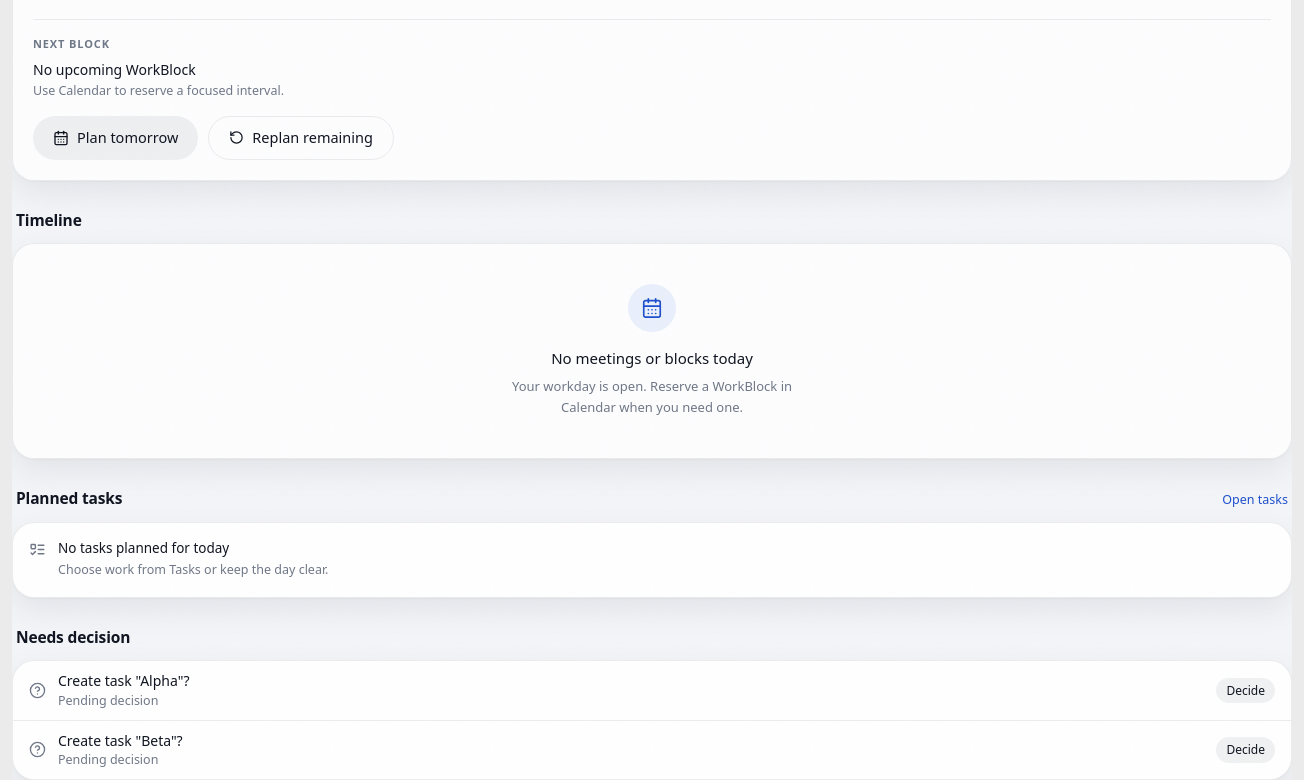
TodayPage confirmation decisions › handles a rejected confirmation inline and keeps the remaining item
This screenshot has width=1304, height=780.
(page scrolled)
Click the button "Create task \"Alpha\"? Pending decision Decide": point(124, 681) [13, 661, 1291, 720]
(page scrolled)
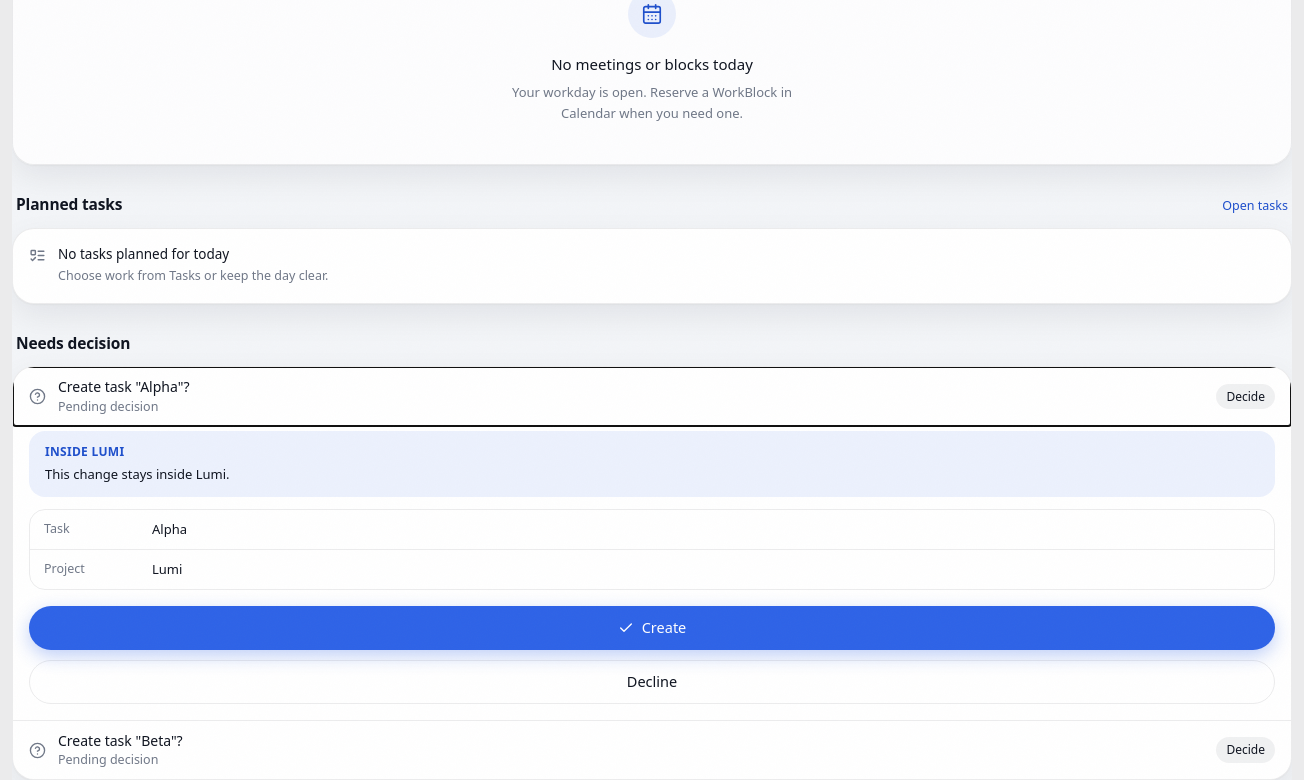
Check: the text "Task" is shown, box [44, 520, 70, 537]
Check: the text "Alpha" is shown, box [152, 520, 187, 538]
Click the button "Decline": point(652, 682) [29, 660, 1275, 704]
(page scrolled)
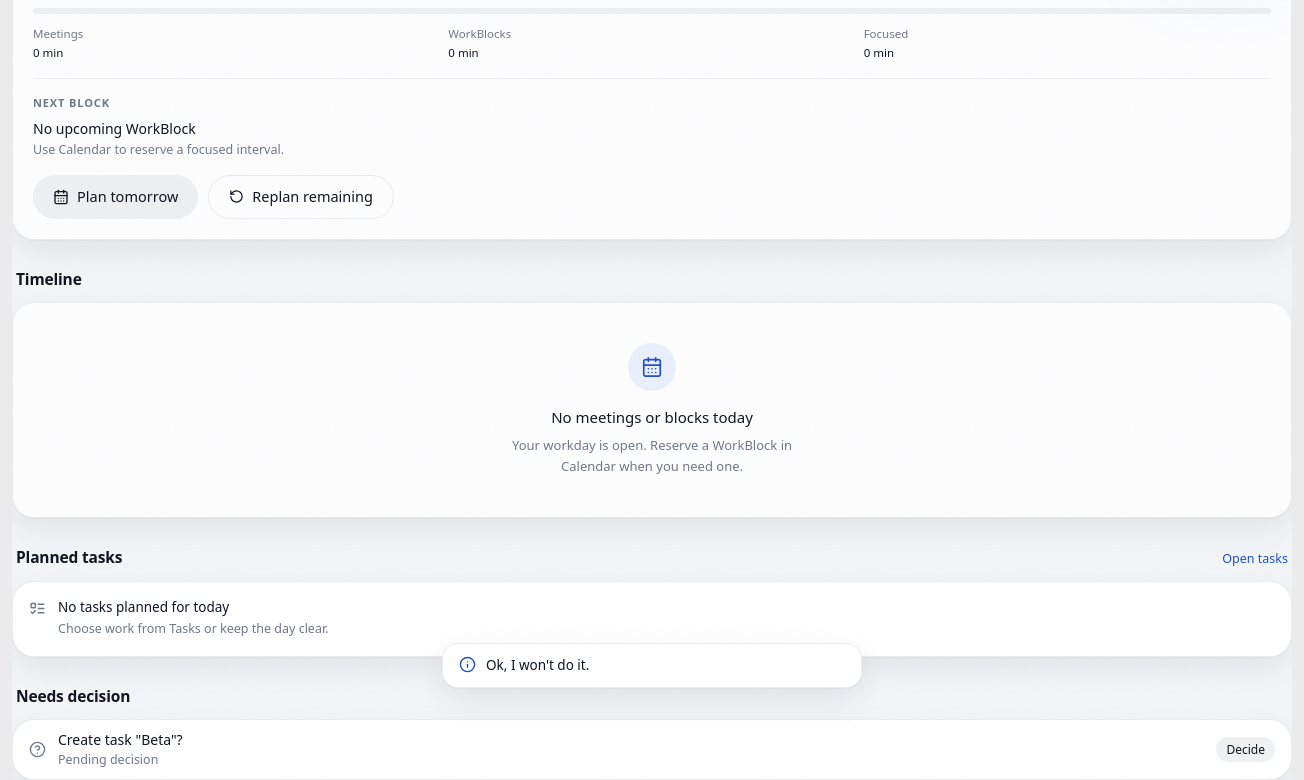
Check: the button "Create task \"Beta\"? Pending decision Decide" is shown, box [13, 720, 1291, 779]
Check: the text "Ok, I won't do it." is shown, box [486, 656, 589, 675]
Check: the button "Create task \"Alpha\"" is gone
